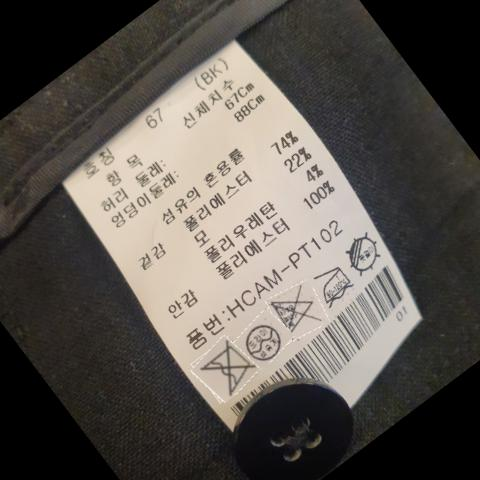DN_bleach: (272, 291, 317, 333)
DN_wash: (205, 342, 252, 393)
dry_clean_petrol_only: (246, 319, 283, 365)
iron_low: (320, 265, 353, 307)
line_dry_in_shade: (349, 230, 382, 276)
